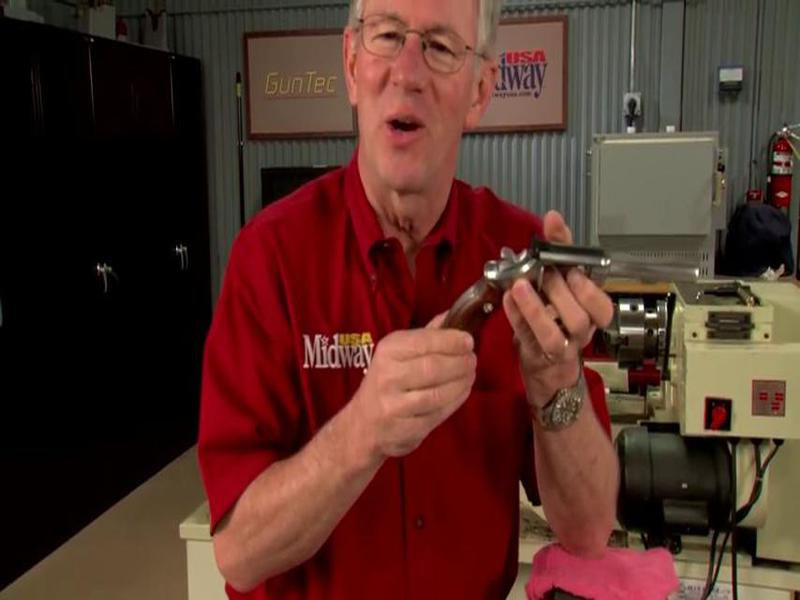Revolver: (432, 214, 707, 385)
